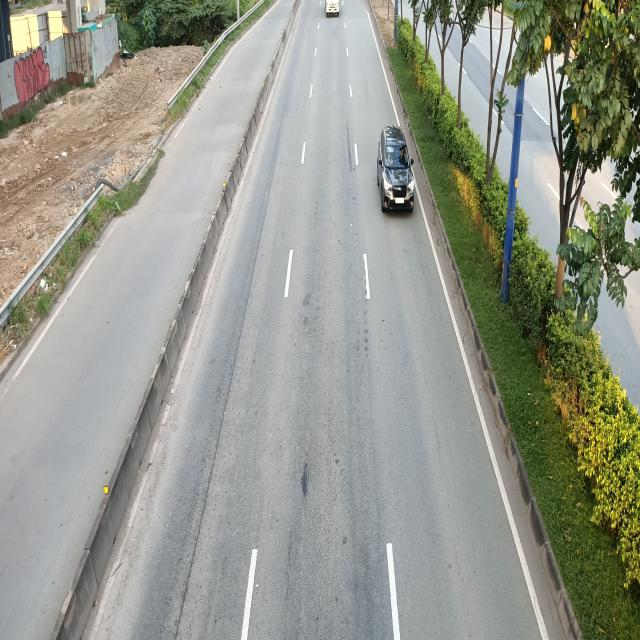car: (375, 128, 414, 216)
